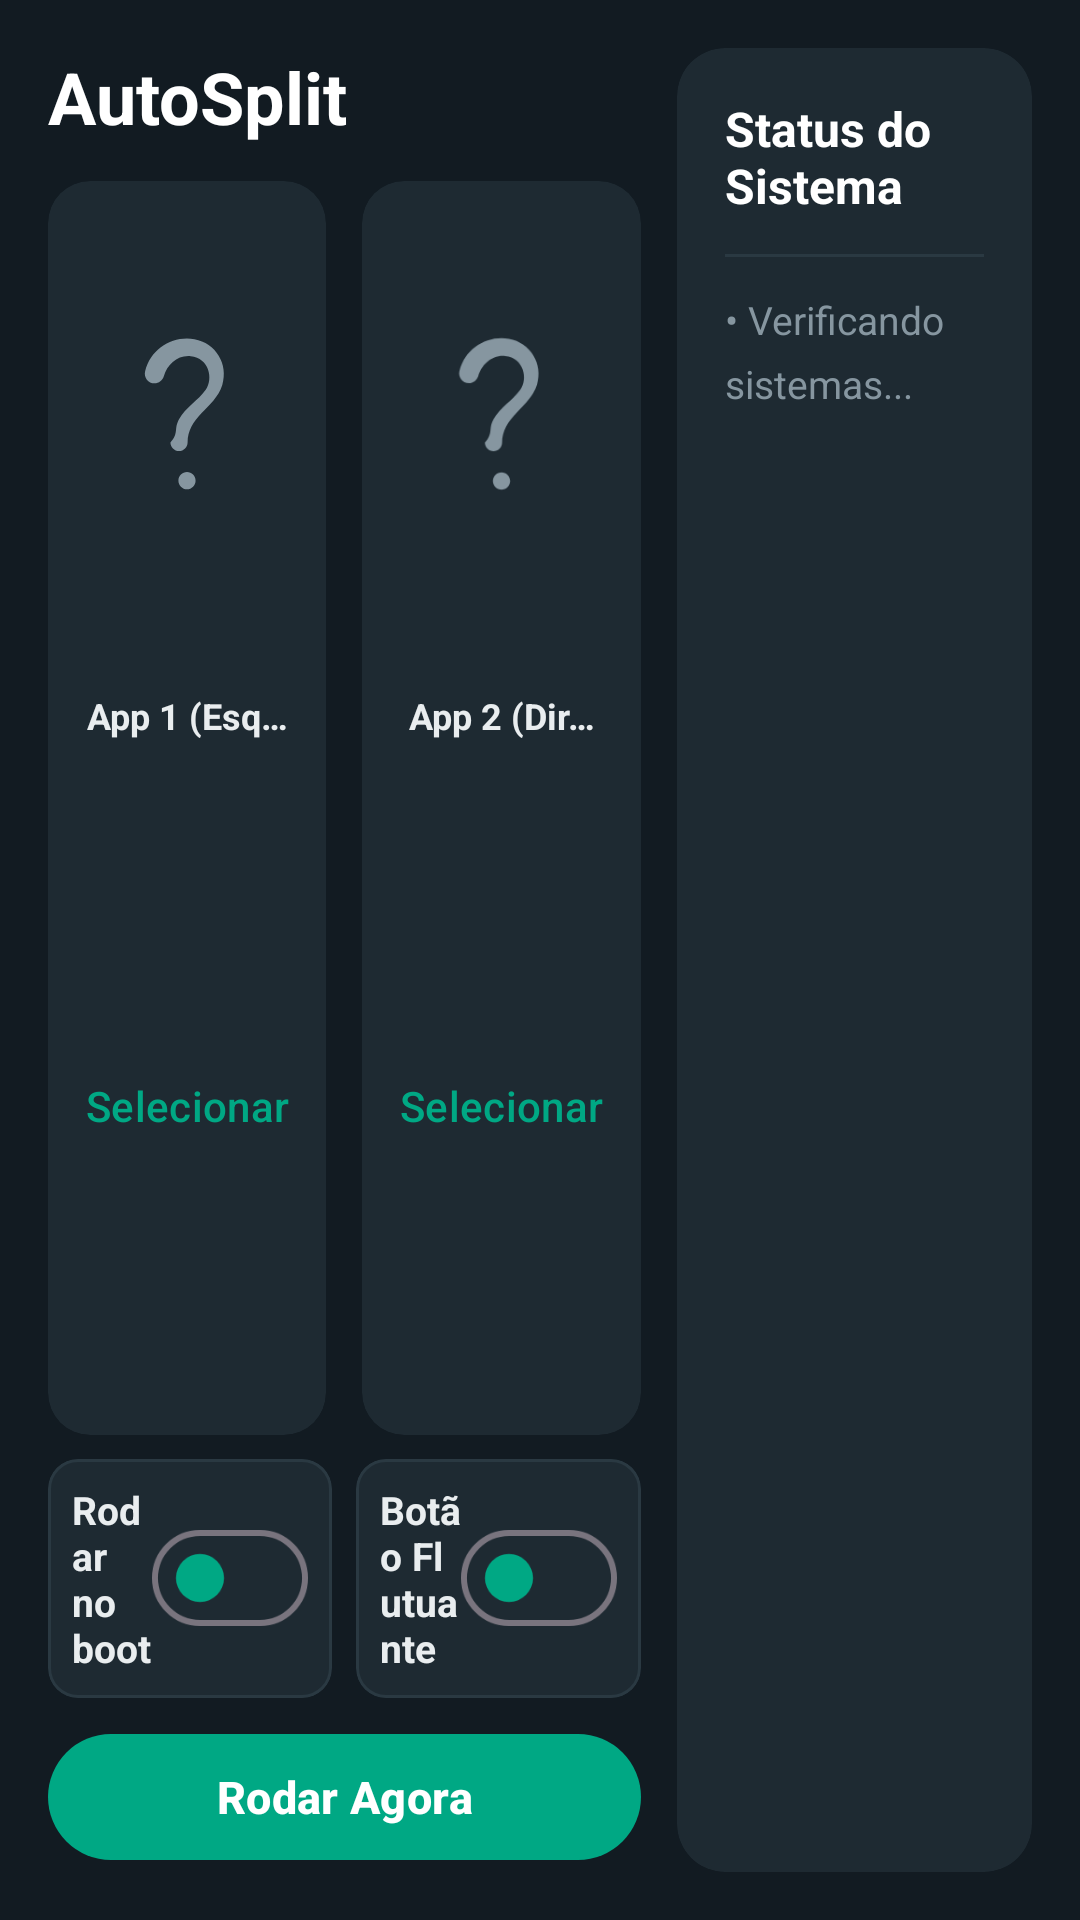

Icons on this 1080 x 1920 Android screen, each with its box as (x1, y1, x2, y2):
question mark: (145, 338, 224, 490), (459, 338, 539, 490)
